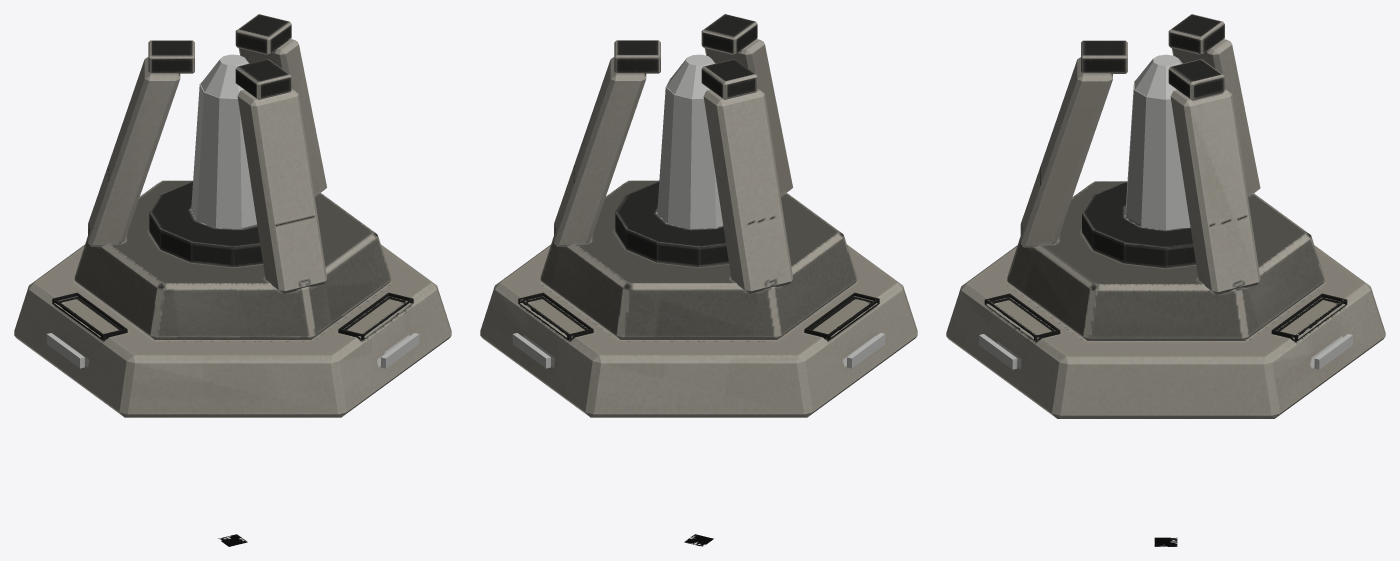
The model's file is shield_emitter.fbx.
3 views of the same model, side by side, from view 1: azimuth 30°, elevation 25°; view 2: azimuth 150°, elevation 25°; view 3: azimuth 270°, elevation 25° (orthographic).
Visible parts, largest first — view 1: base_bar, base_glow_power_bar, base_glow_running_bar; view 2: base_bar, base_glow_power_bar, base_glow_running_bar; view 3: base_bar, base_glow_power_bar, base_glow_running_bar.
Boxes of the visible parts, x1,y1,x2,y2 form: base_bar: [14, 14, 451, 417]; base_glow_power_bar: [191, 54, 256, 229]; base_glow_running_bar: [46, 333, 419, 368]; base_bar: [480, 14, 917, 417]; base_glow_power_bar: [657, 54, 722, 229]; base_glow_running_bar: [512, 333, 885, 368]; base_bar: [946, 14, 1385, 418]; base_glow_power_bar: [1126, 54, 1190, 230]; base_glow_running_bar: [979, 334, 1352, 369].
Bounding box in the file's own units: 347 × 487 × 392.
2 materials, 2 textured.
